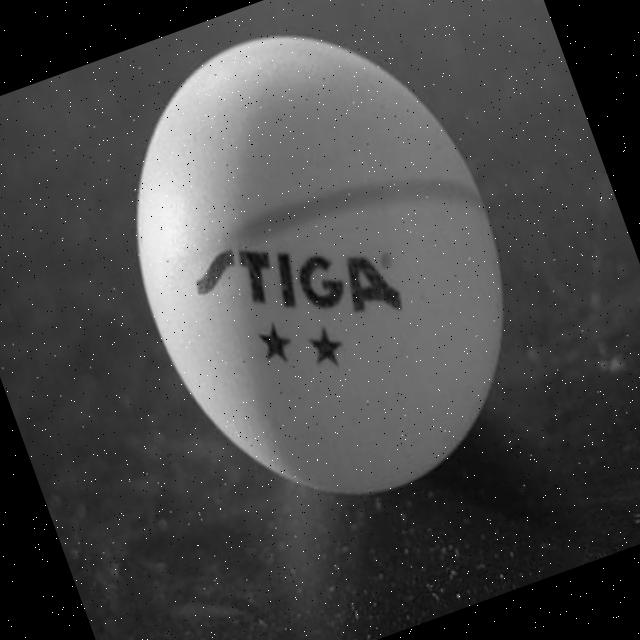ping-pong-ball: (69, 0, 575, 557)
